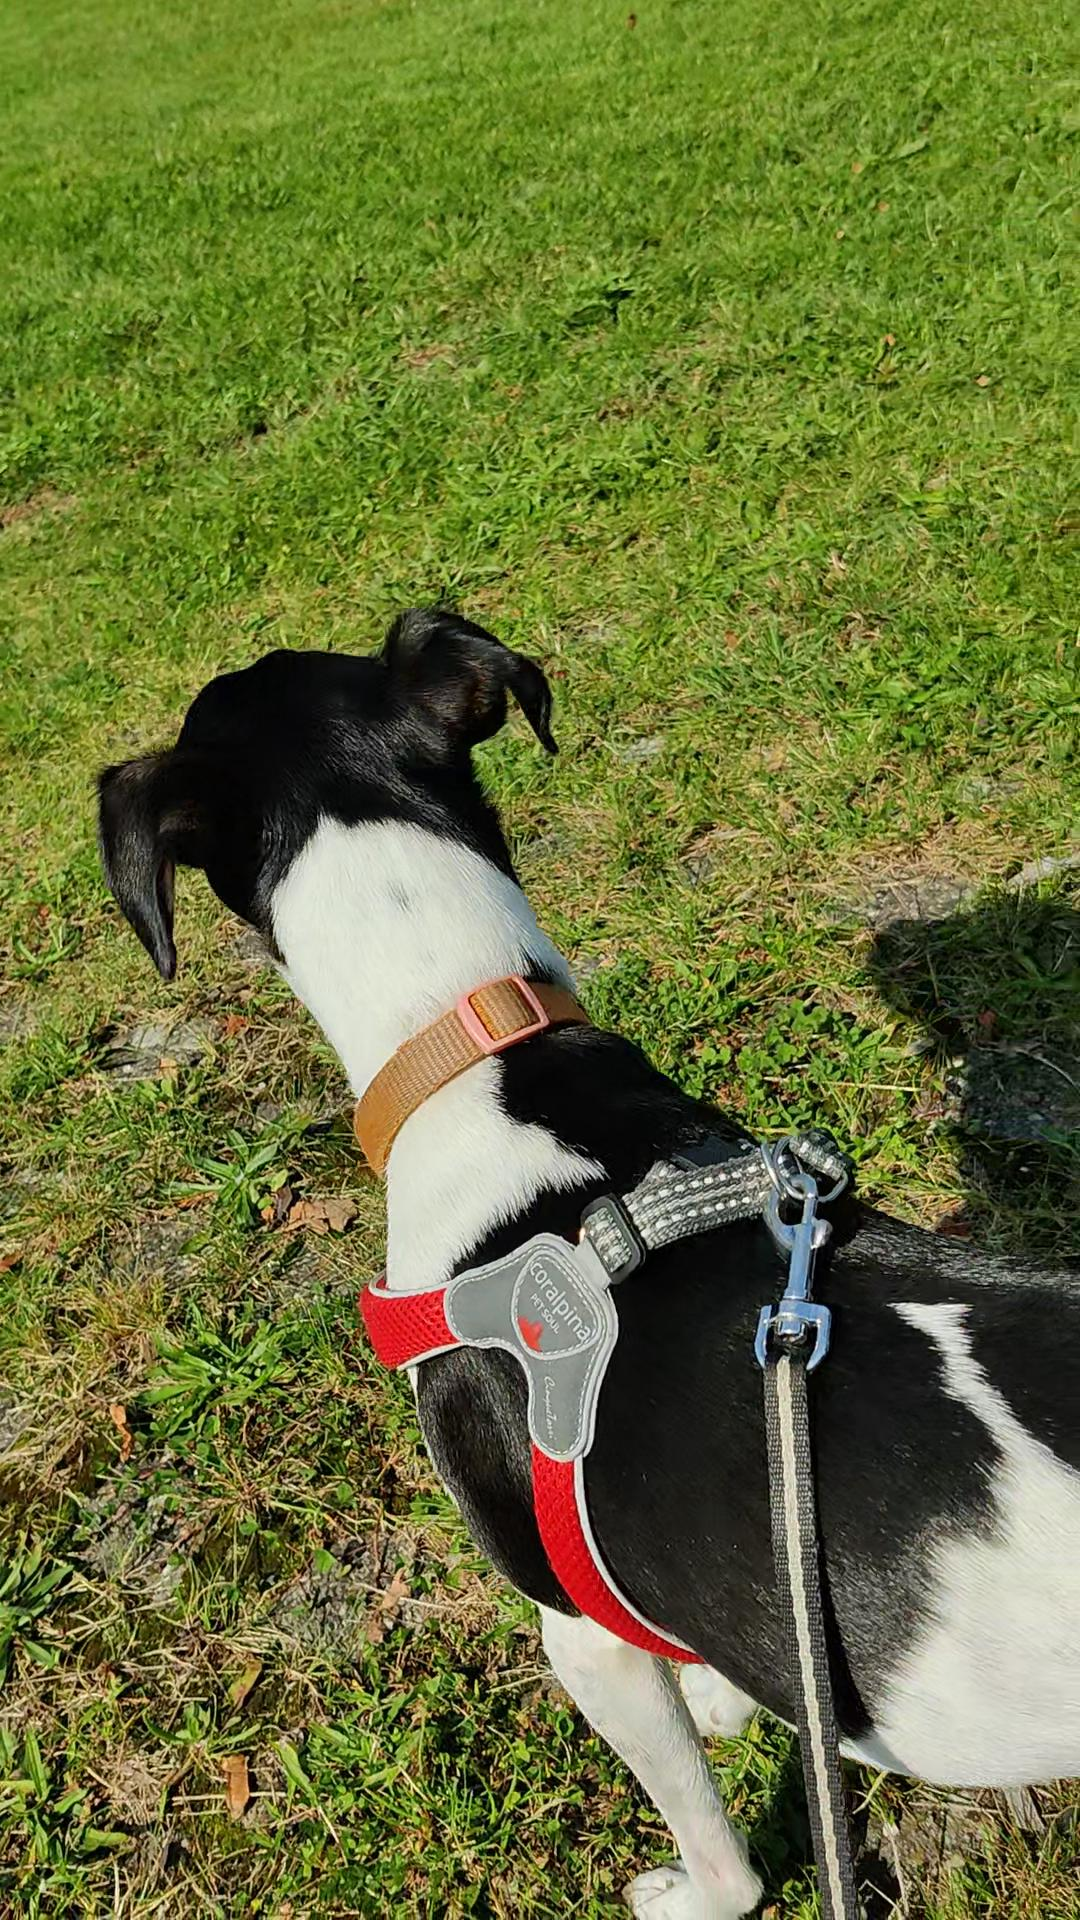Dog: (44, 583, 1079, 1919)
